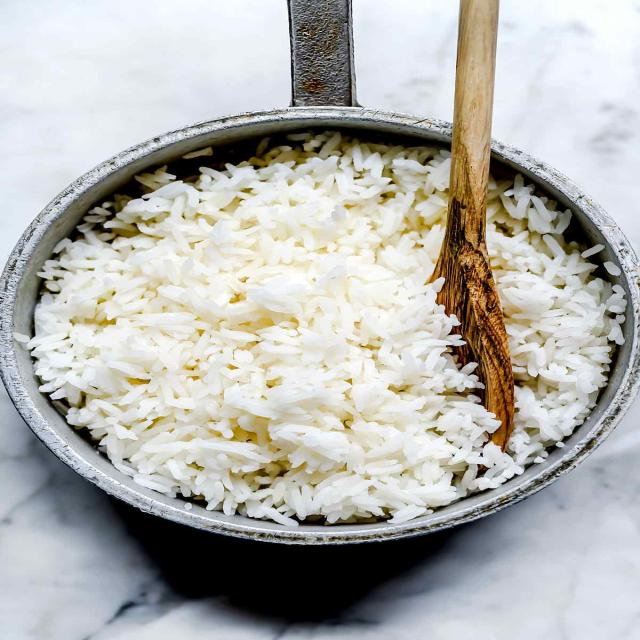rice: (56, 150, 606, 514)
